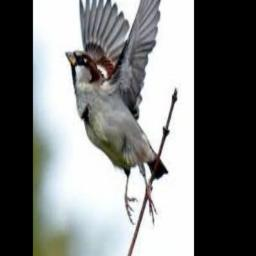Sparrow: (65, 0, 168, 223)
